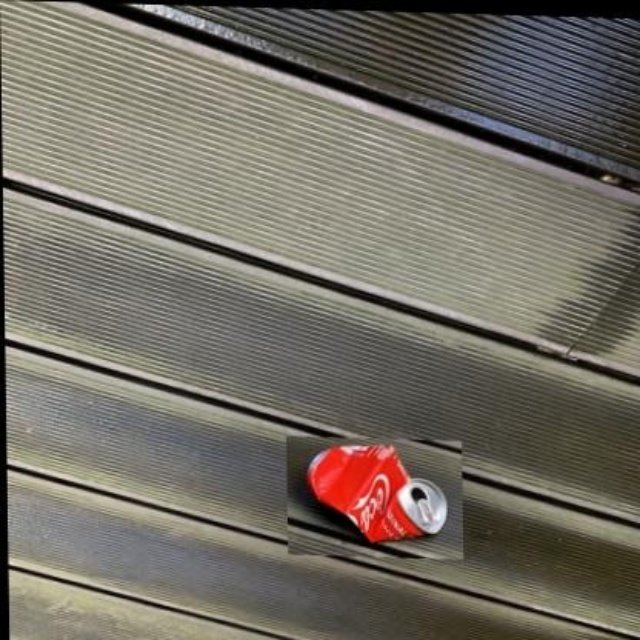trash: (308, 445, 446, 540)
